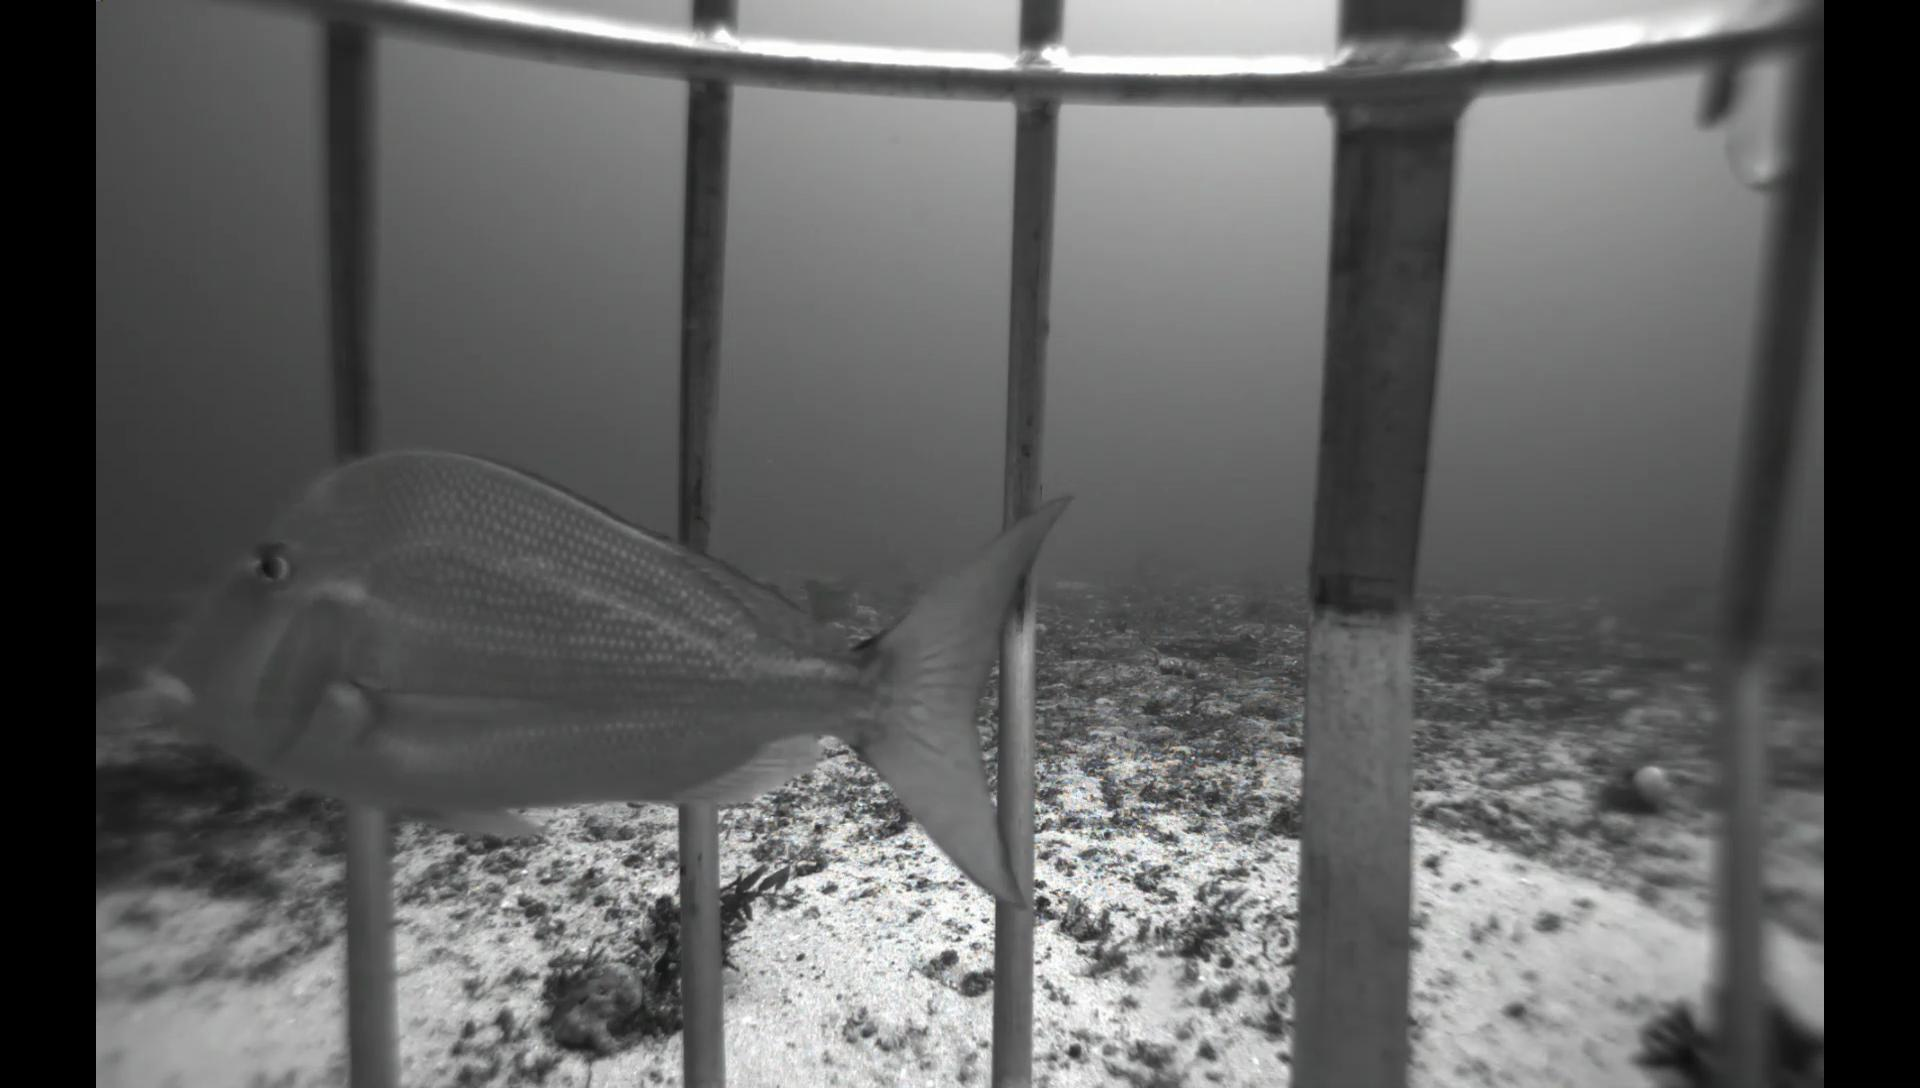CALAMUSPRORIDENS-170210605: (113, 426, 1104, 939)
CHAETODONOCELLATUS-170260307: (1578, 607, 1623, 648)
